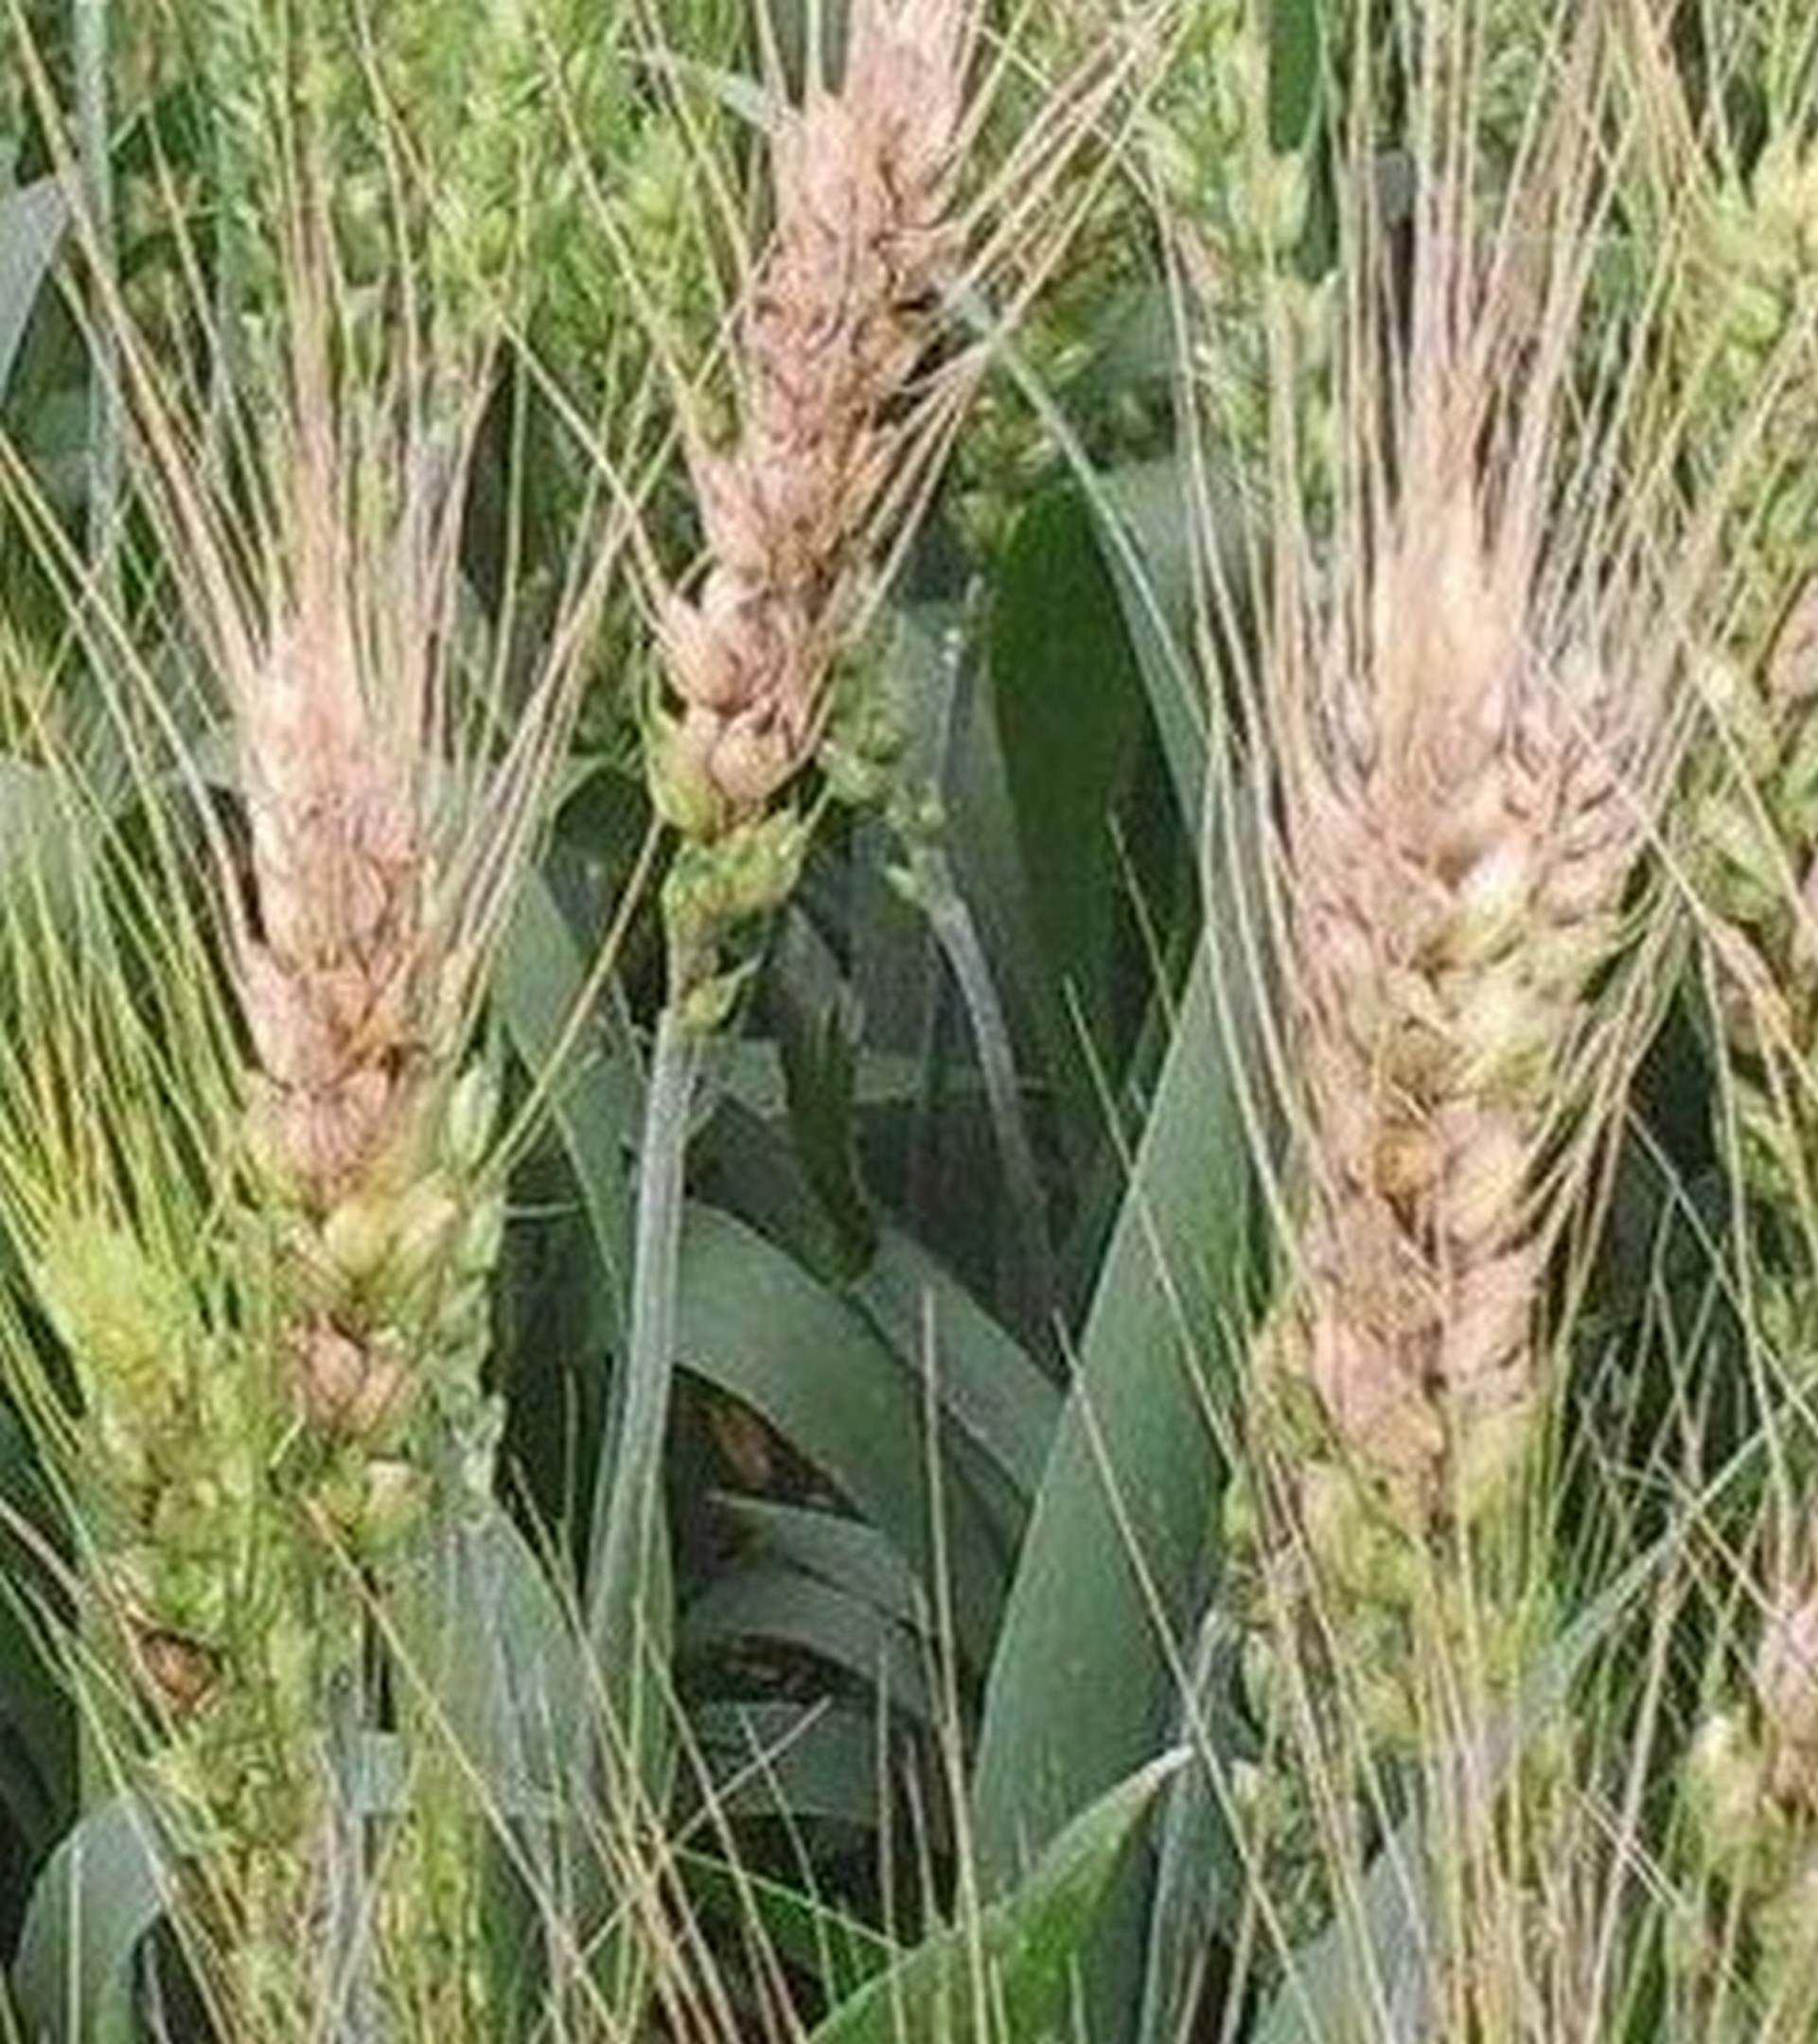Wheat scab: (630, 2, 1037, 940), (225, 637, 498, 1593)
